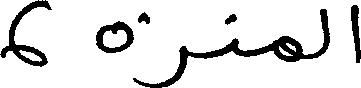X: (0, 0, 48, 71), (147, 10, 186, 87), (96, 16, 132, 57), (274, 31, 301, 66), (351, 0, 360, 67), (230, 9, 239, 60), (322, 4, 328, 58)
